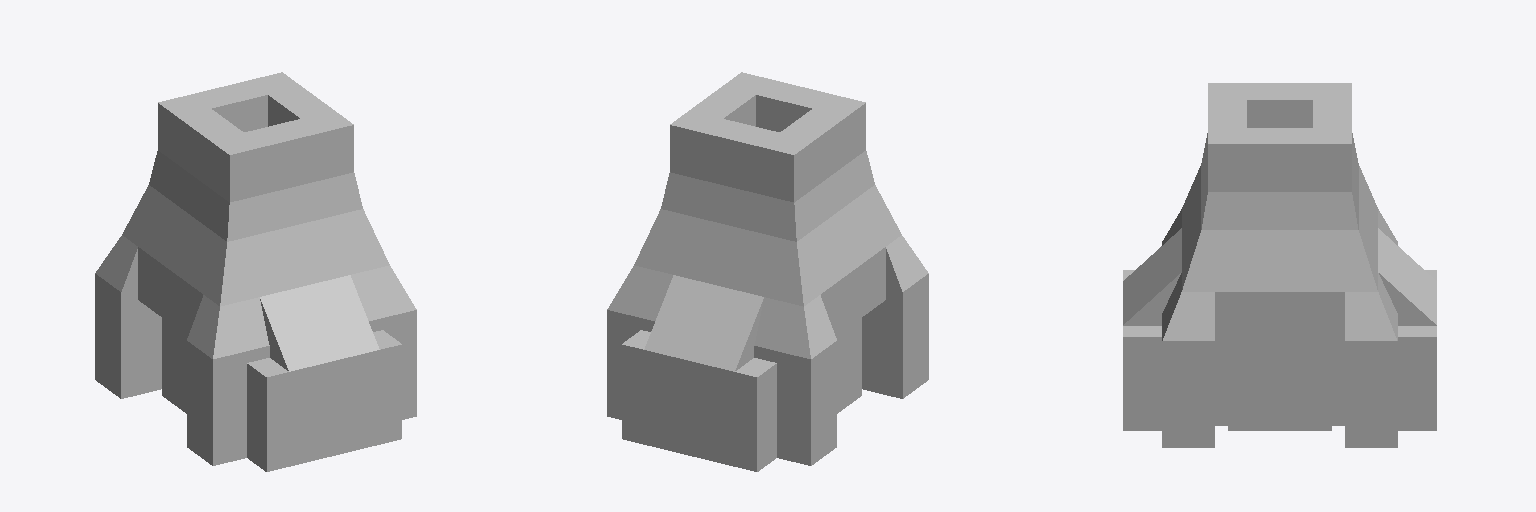
File: blast_furnace.obj
The picture shows the model from 3 angles: view 1: azimuth 30°, elevation 25°; view 2: azimuth 150°, elevation 25°; view 3: azimuth 270°, elevation 25°; orthographic projection.
Parts seen in each view (by area): view 1: cube.002; view 2: cube.002; view 3: cube.002.
Boxes of the visible parts, x1=… form: cube.002: x1=95, y1=72, x2=416, y2=471; cube.002: x1=607, y1=72, x2=928, y2=471; cube.002: x1=1123, y1=83, x2=1436, y2=447.
Size of the model in its own units: 2.25 by 3 by 3.